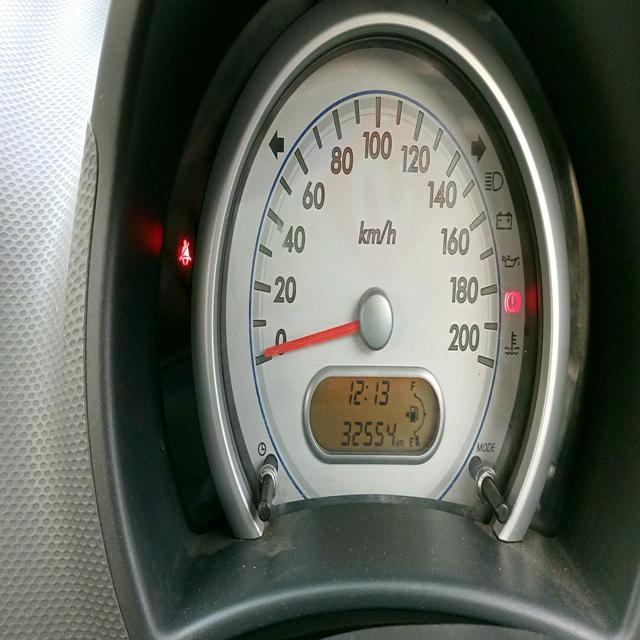odometer: (338, 412, 400, 453)
